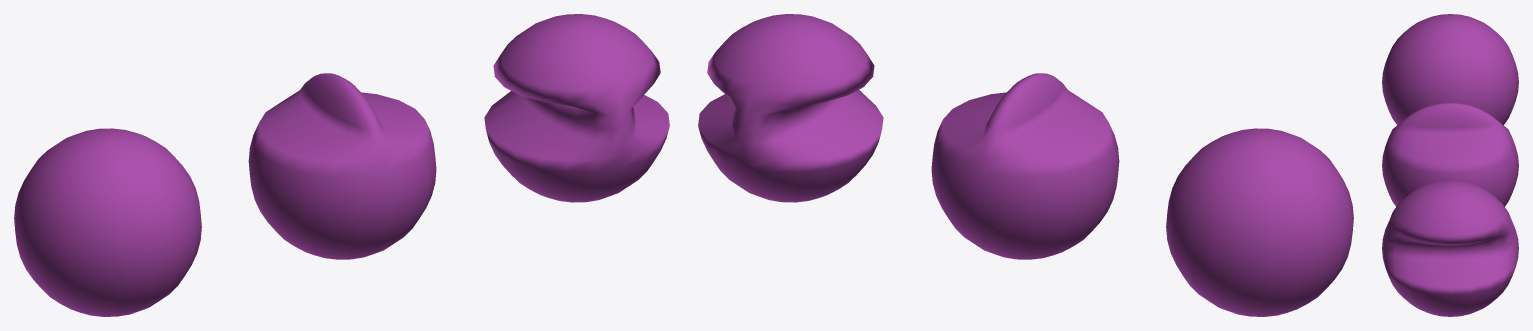
Rendered from morphtest.fbx.
The picture shows the model from 3 angles, left to right: view 1: azimuth 30°, elevation 25°; view 2: azimuth 150°, elevation 25°; view 3: azimuth 270°, elevation 25°; orthographic projection. The views are drawn at different scales.
Parts seen in each view (by area): view 1: pSphere1, pSphere3, pSphere2; view 2: pSphere1, pSphere3, pSphere2; view 3: pSphere3, pSphere1, pSphere2.
Boxes of the visible parts, x1,y1,x2,y2 form: pSphere1: (14, 128, 201, 316); pSphere3: (484, 14, 669, 202); pSphere2: (248, 73, 436, 259); pSphere1: (1166, 128, 1353, 316); pSphere3: (698, 14, 883, 202); pSphere2: (931, 73, 1119, 259); pSphere3: (1382, 180, 1518, 316); pSphere1: (1382, 14, 1518, 124); pSphere2: (1382, 102, 1518, 206).
Bounding box in the file's own units: 7.72 × 2 × 2.
